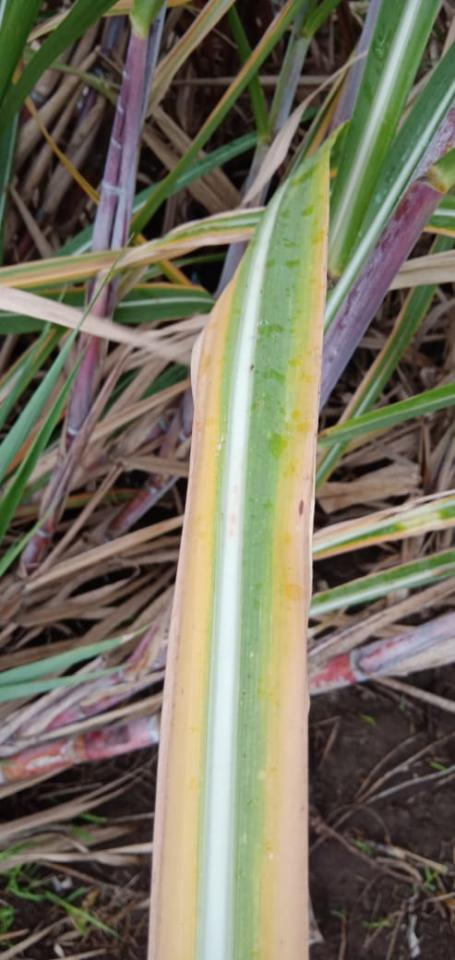Rust: (297, 499, 305, 516), (250, 363, 256, 372)
Yellow: (148, 279, 232, 959), (262, 222, 328, 959)
